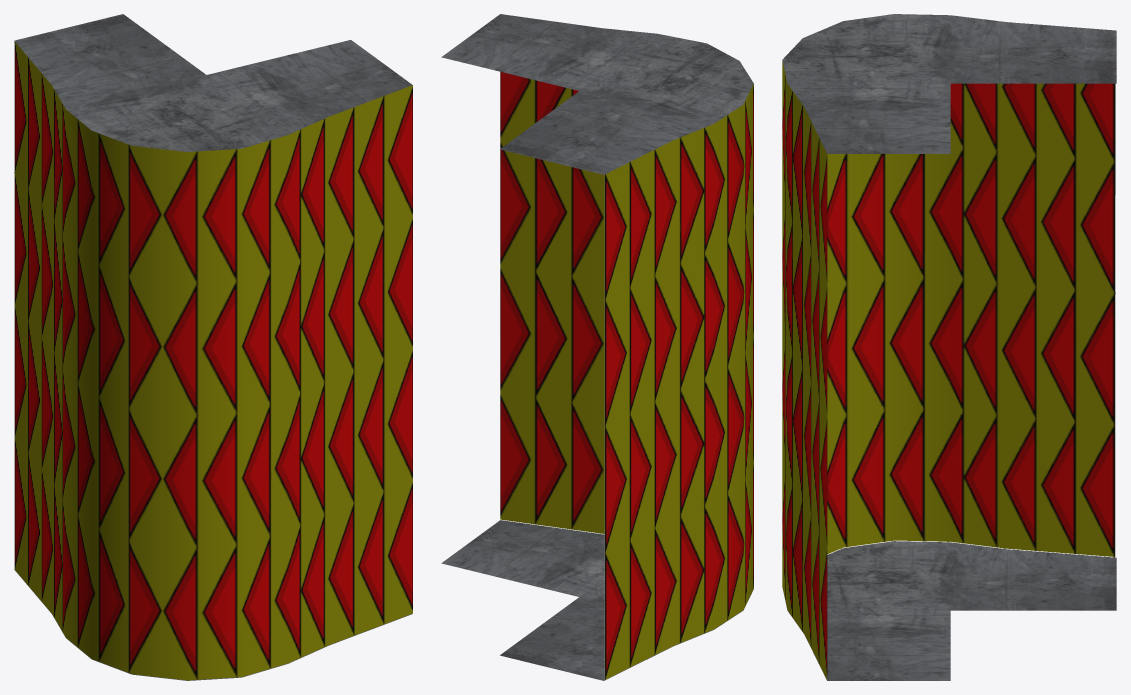
Rendered from Switch_rotZ.obj.
3 views of the same model, side by side, from view 1: azimuth 30°, elevation 25°; view 2: azimuth 150°, elevation 25°; view 3: azimuth 270°, elevation 25° (orthographic). The views are drawn at different scales.
Parts seen in each view (by area): view 1: pCylinder35; view 2: pCylinder35; view 3: pCylinder35.
Boxes of the visible parts, box(x1,y1,x2,y2) form: pCylinder35: box(14, 14, 412, 680); pCylinder35: box(441, 14, 753, 680); pCylinder35: box(782, 14, 1116, 680).
Size of the model in its own units: 14.41 by 25.32 by 14.55.
Materials: 1 (1 with a texture image).
